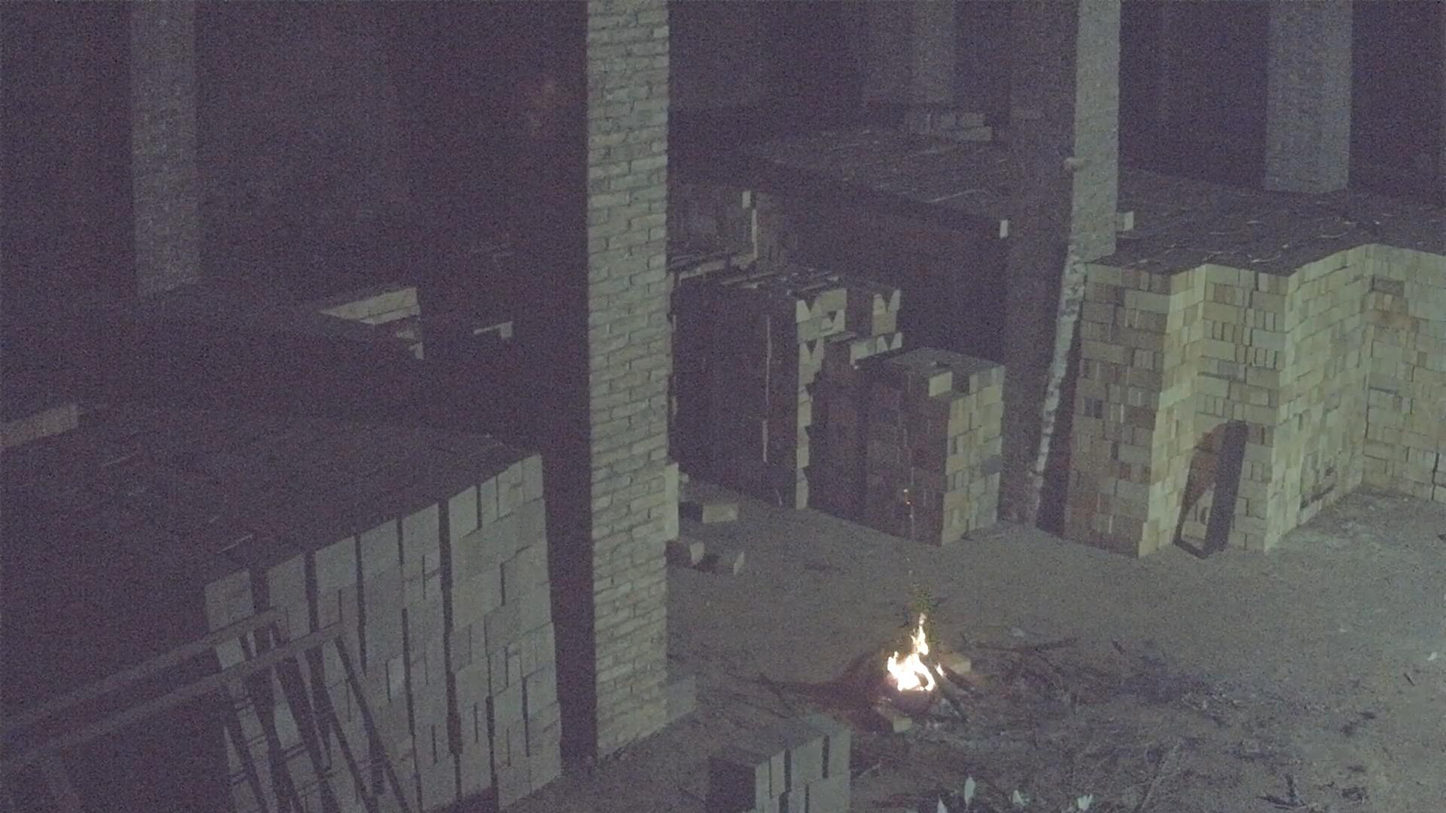fire: (887, 616, 936, 693)
